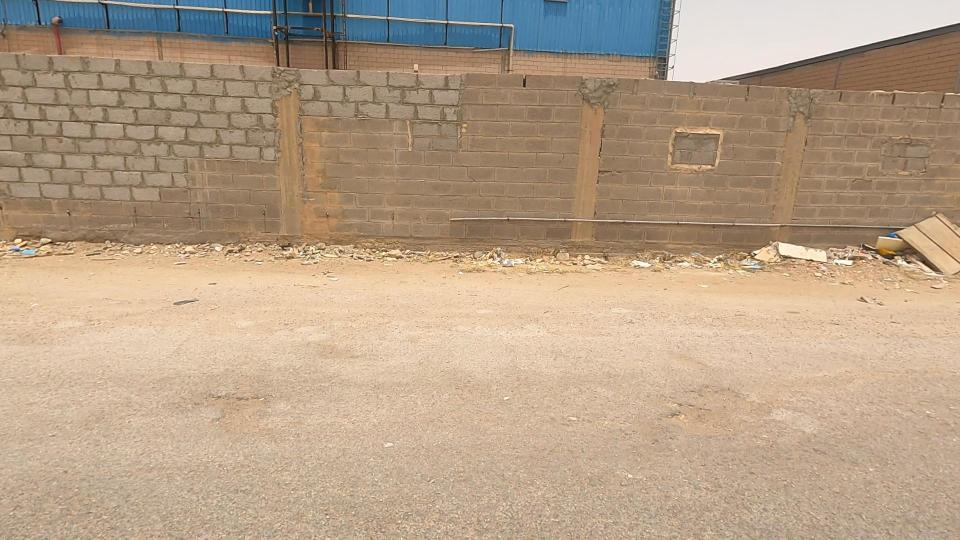GARBAGE: (784, 169, 960, 296), (673, 184, 849, 309), (244, 220, 389, 298), (586, 224, 731, 294), (443, 213, 548, 293), (0, 207, 96, 280)
